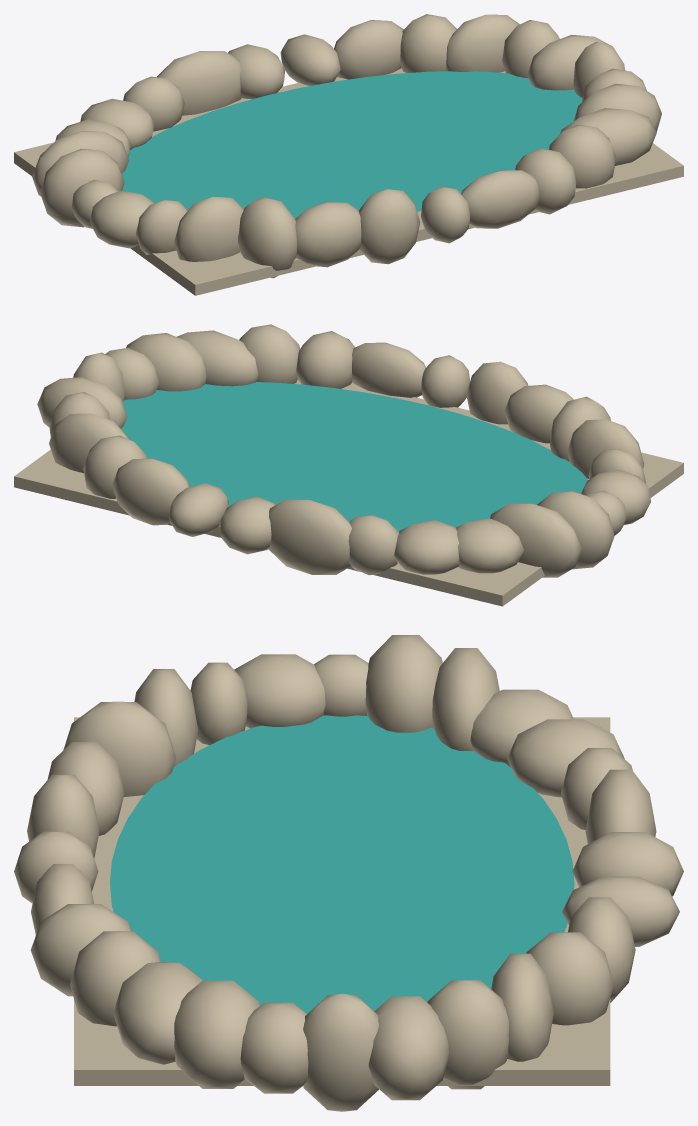
The model's file is lagoon.glb.
3 renders of one model, top to bottom at view 1: azimuth 30°, elevation 25°; view 2: azimuth 150°, elevation 25°; view 3: azimuth 270°, elevation 25°, orthographic. The views are drawn at different scales.
Visible parts, largest first — view 1: sandstone, water; view 2: sandstone, water; view 3: sandstone, water.
Boxes of the visible parts, box(x1,y1,x2,y2) form: sandstone: box(14, 14, 683, 295); water: box(121, 71, 582, 218); sandstone: box(14, 324, 683, 606); water: box(121, 382, 587, 531); sandstone: box(14, 635, 683, 1111); water: box(110, 715, 574, 1013).
Size of the model in its own units: 16.27 by 2.19 by 11.25.
